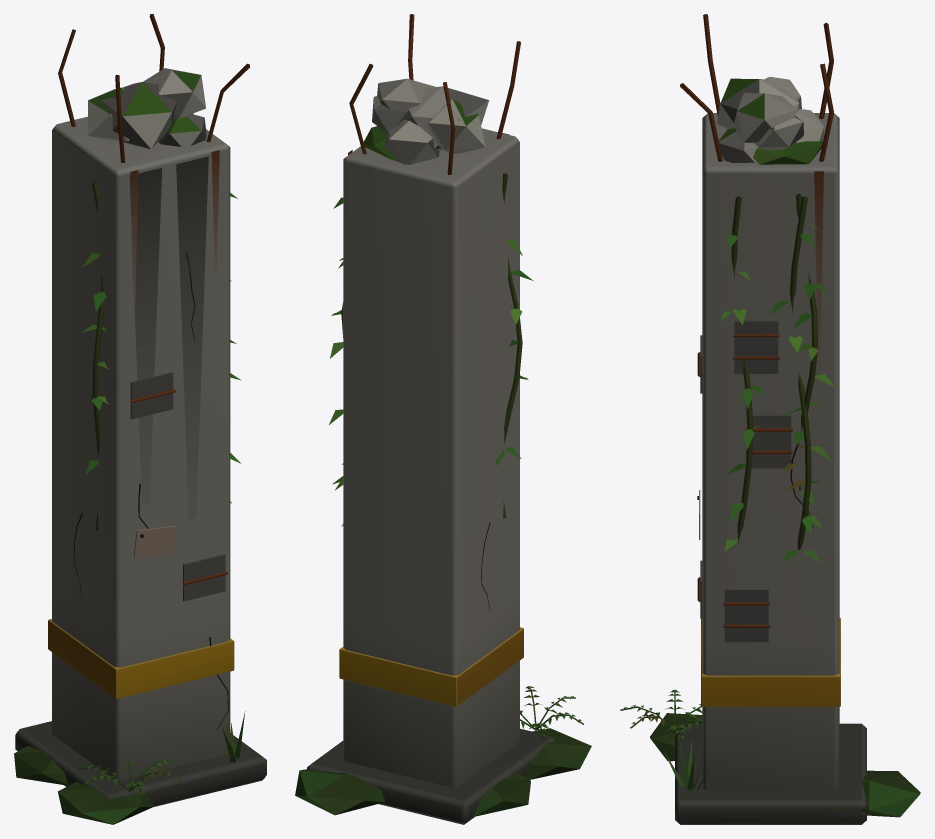
File: cracked_pillar.glb
3 renders of one model, left to right at view 1: azimuth 30°, elevation 25°; view 2: azimuth 150°, elevation 25°; view 3: azimuth 270°, elevation 25°, orthographic. The views are drawn at different scales.
Parts seen in each view (by area): view 1: Mesh; view 2: Mesh; view 3: Mesh.
Boxes of the visible parts, x1,y1,x2,y2 form: Mesh: [14, 14, 266, 824]; Mesh: [295, 14, 591, 824]; Mesh: [620, 14, 920, 824].
Size of the model in its own units: 1.74 by 5.99 by 2.19.
